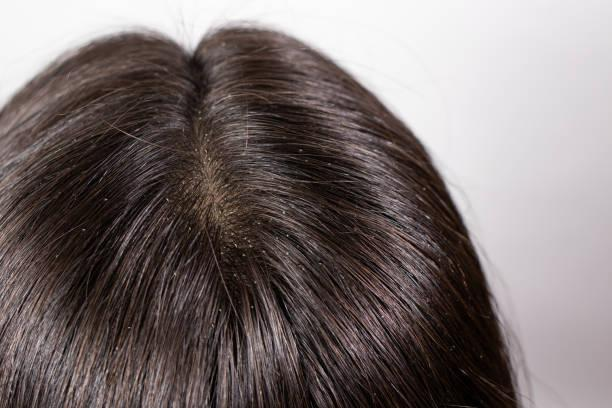dandruff: (231, 232, 267, 266), (192, 126, 216, 162), (291, 141, 314, 166), (92, 191, 121, 210), (165, 265, 191, 285), (68, 222, 94, 241), (274, 231, 294, 245), (272, 205, 291, 219), (184, 220, 198, 235), (175, 176, 189, 189), (162, 191, 171, 208)
